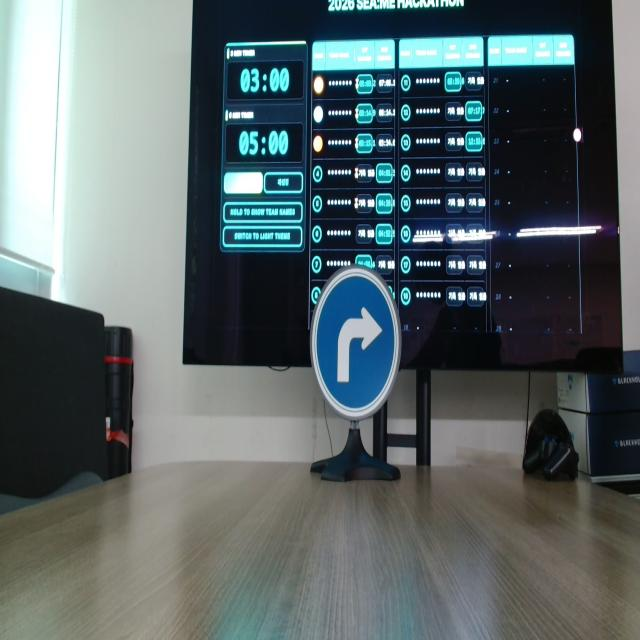right_dierection: (306, 237, 420, 458)
